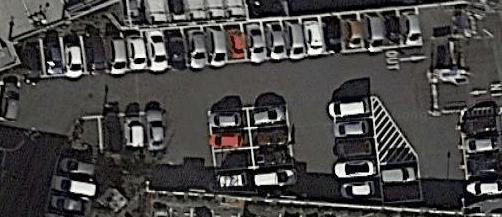parkingspot: (23, 6, 424, 87), (328, 95, 384, 201), (246, 102, 299, 199), (205, 106, 259, 193), (78, 110, 168, 154), (455, 116, 502, 198), (40, 153, 97, 216), (378, 158, 426, 203)
